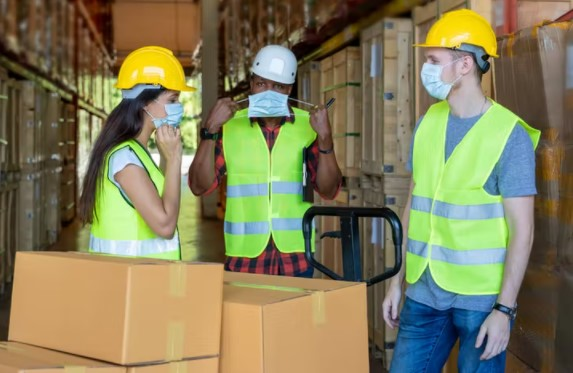stock: (7, 251, 224, 366)
worker: (407, 8, 524, 295), (90, 47, 195, 260), (222, 45, 320, 256)
